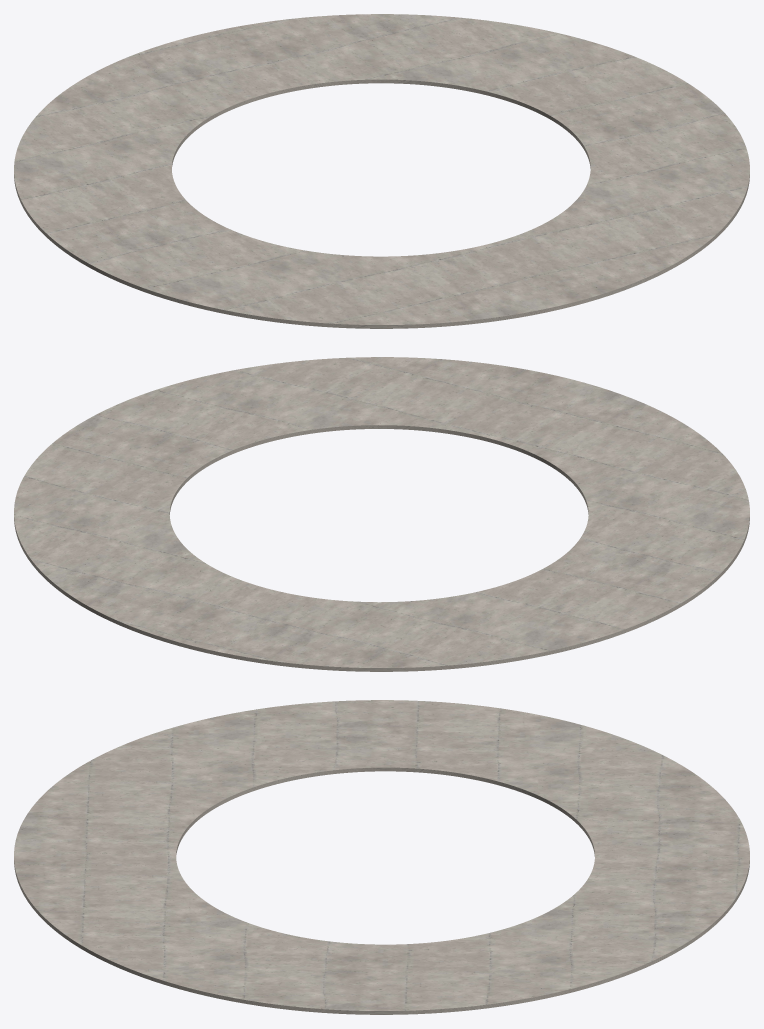
Rendered from Environment_MarbleLoopCeiling_White.glb.
3 renders of one model, top to bottom at view 1: azimuth 30°, elevation 25°; view 2: azimuth 150°, elevation 25°; view 3: azimuth 270°, elevation 25°, orthographic.
Parts seen in each view (by area): view 1: Cylinder.006; view 2: Cylinder.006; view 3: Cylinder.006.
Boxes of the visible parts, x1,y1,x2,y2 form: Cylinder.006: [14, 14, 749, 328]; Cylinder.006: [14, 357, 749, 671]; Cylinder.006: [14, 700, 749, 1014].
Bounding box in the file's own units: 75.25 × 0.425 × 75.24.
Materials: 1 (1 with a texture image).
